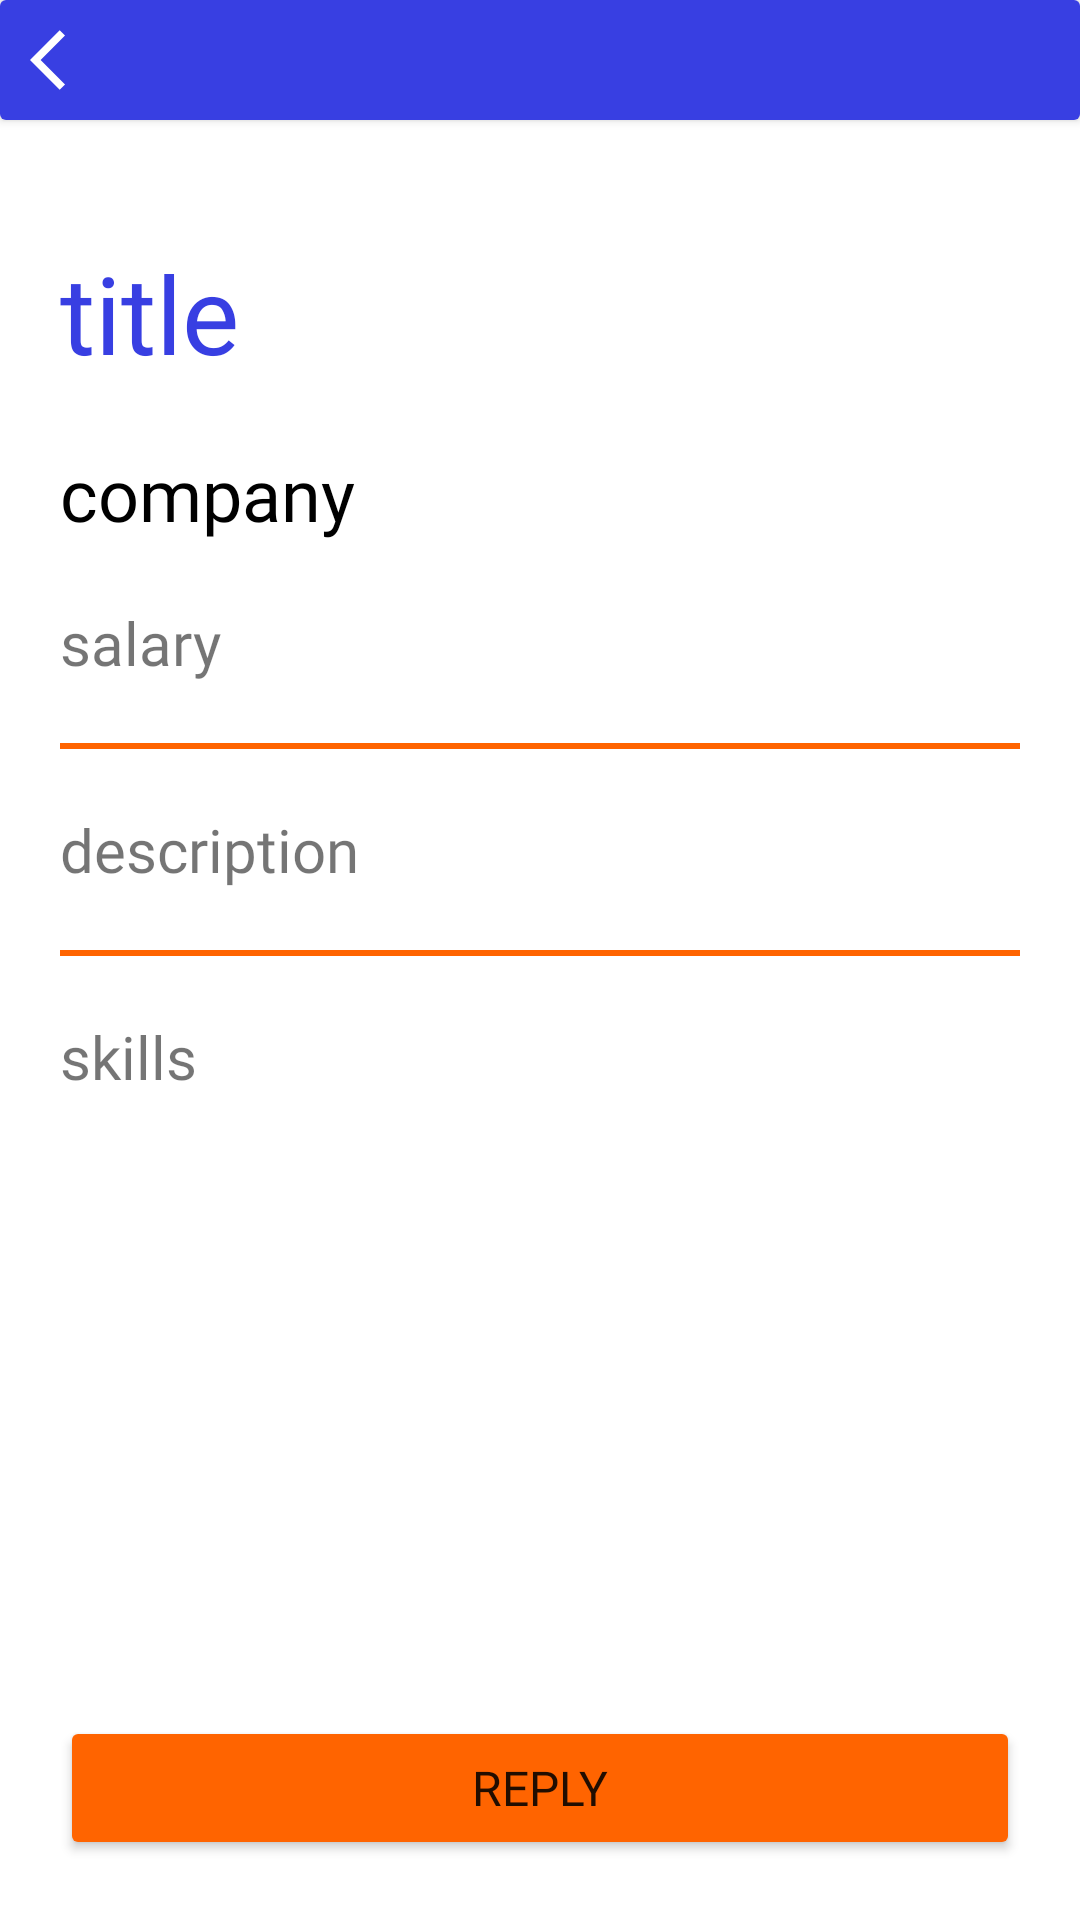

Where to tap for icons on this 1080×1920 app screen, as point (x, y):
back: point (47, 60)
